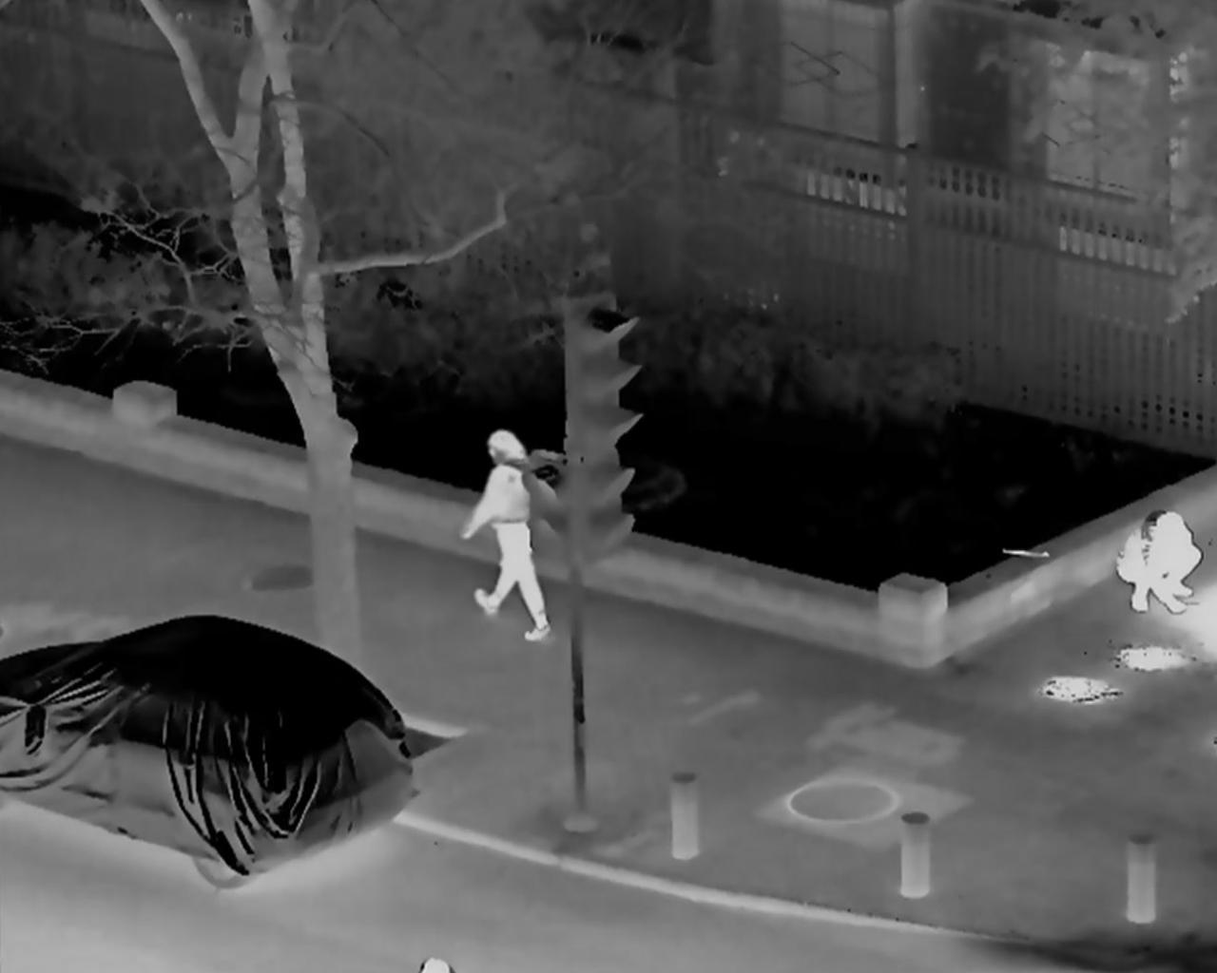person: (459, 429, 562, 646), (1117, 507, 1200, 620)
